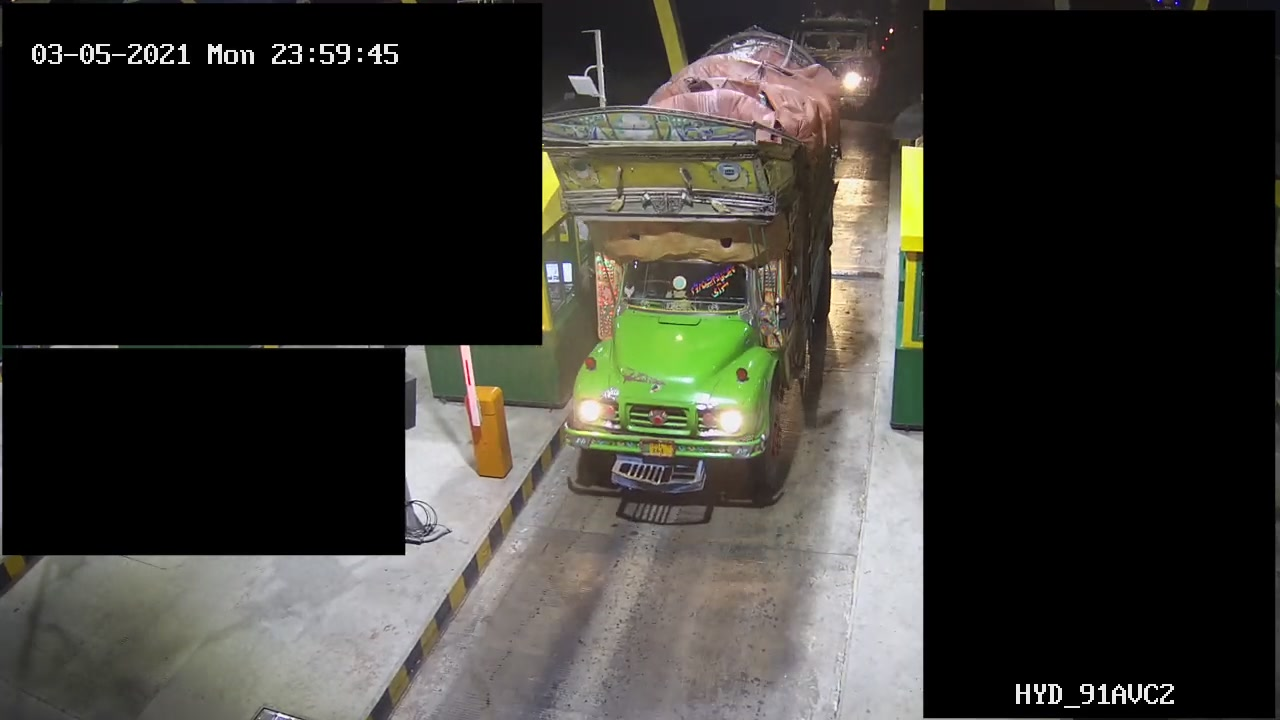F5: (538, 12, 841, 547)
